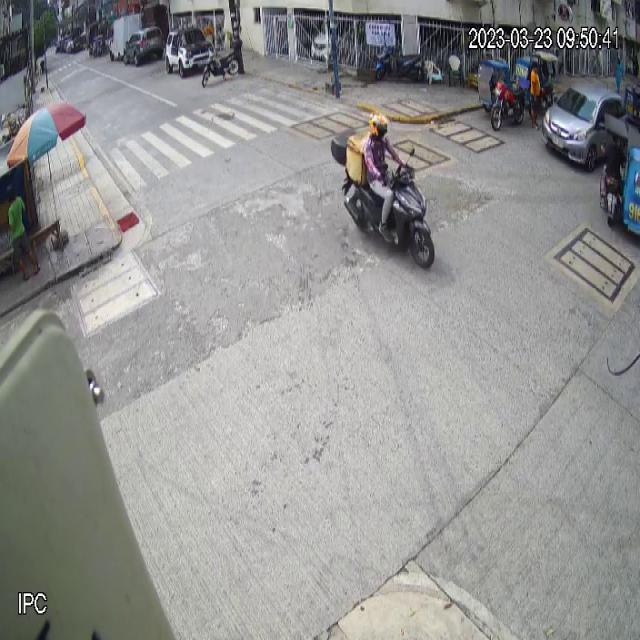Car: (542, 83, 627, 172)
Motorcycle: (331, 126, 437, 270)
